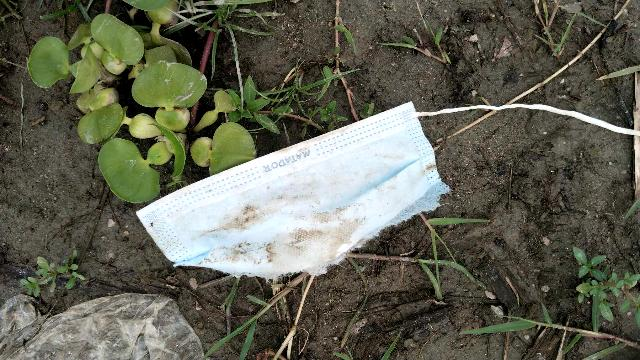mask: (84, 99, 483, 283)
